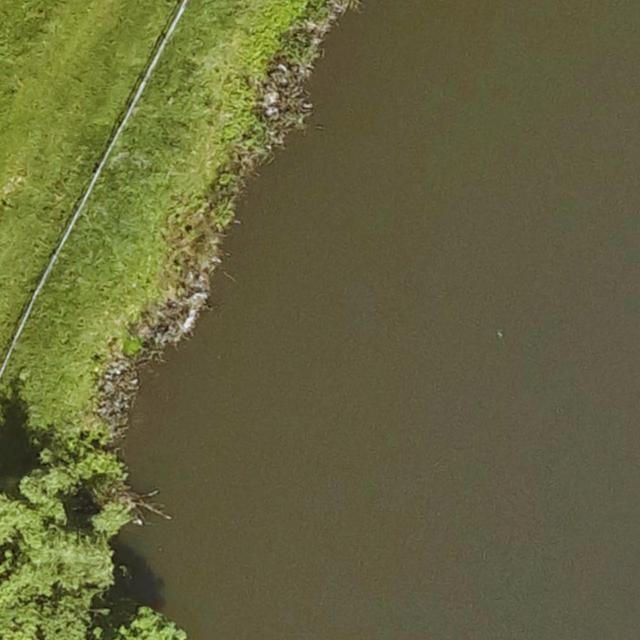tree: (0, 451, 134, 640)
